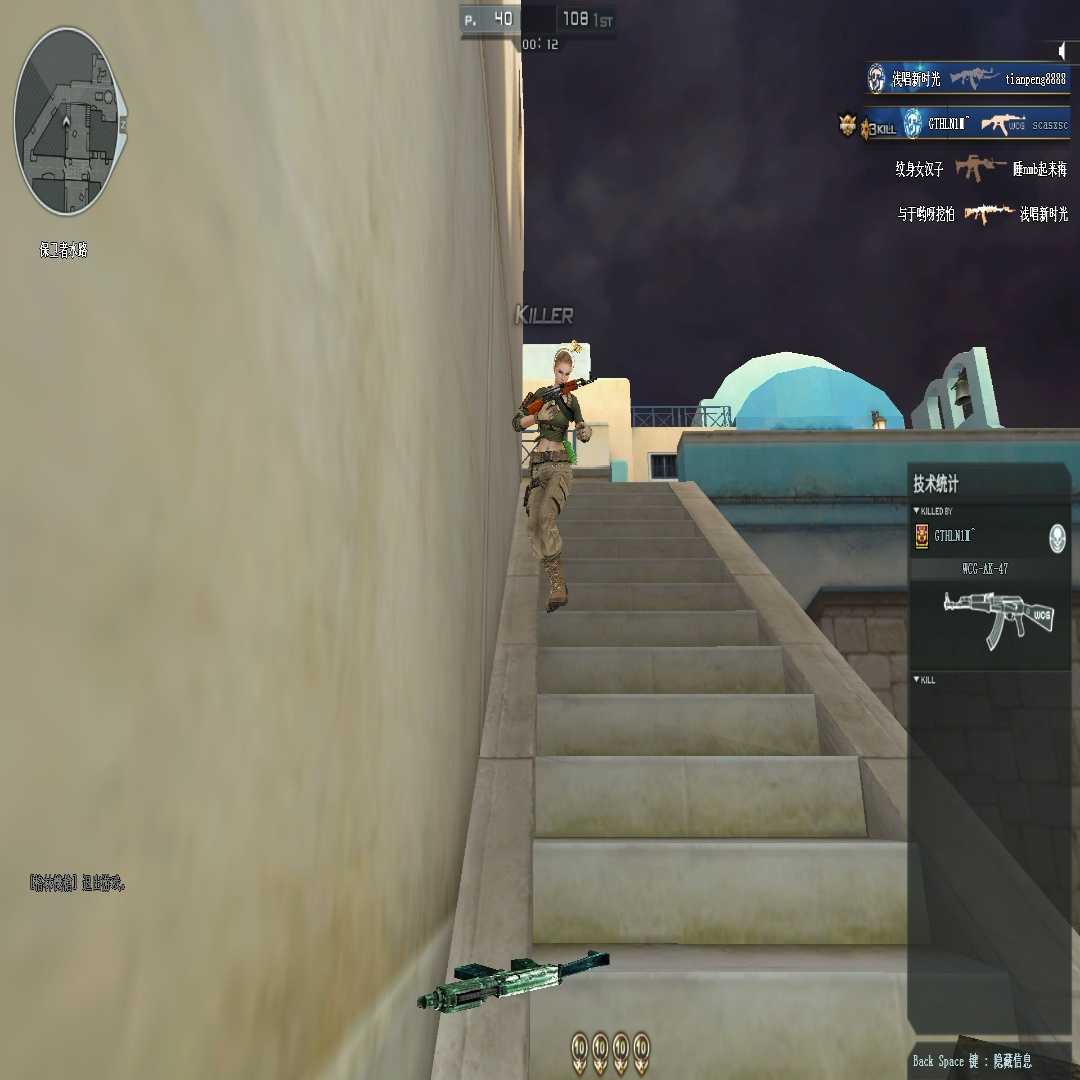head: (554, 353, 572, 385)
p: (512, 344, 592, 612)
